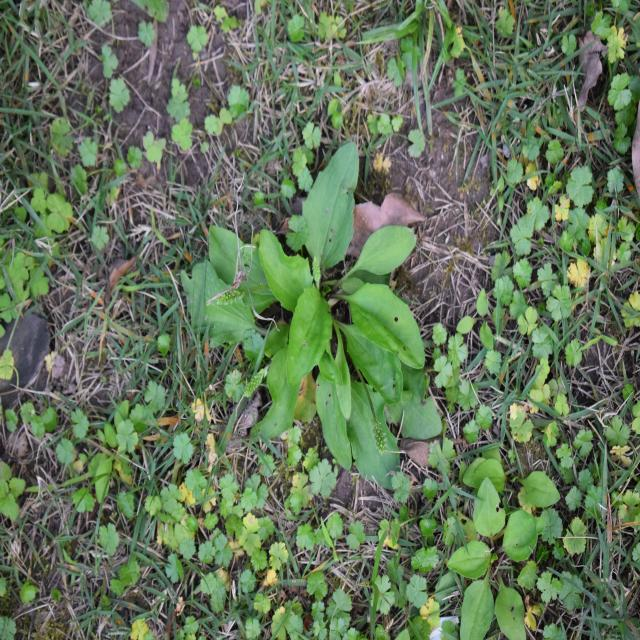plantain: (205, 157, 438, 470)
